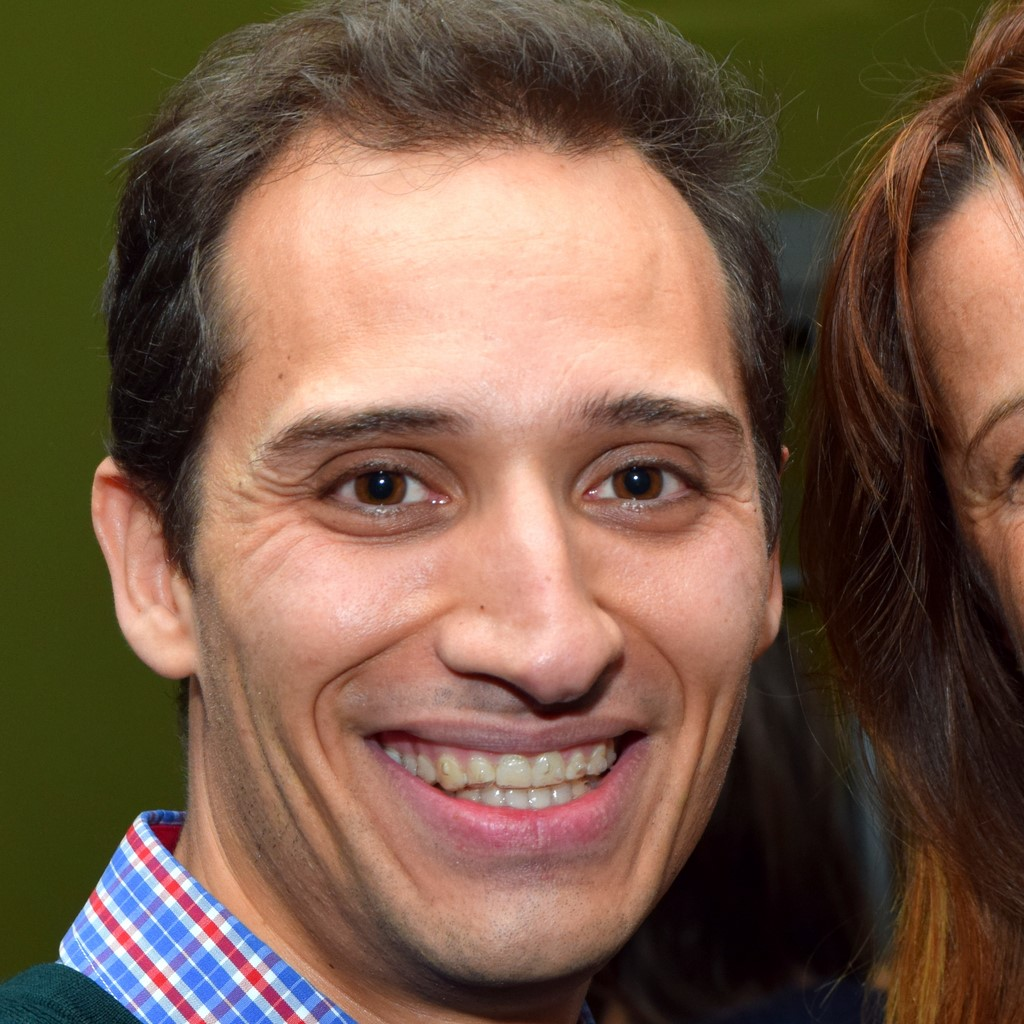sin_mascara: (164, 90, 768, 987)
